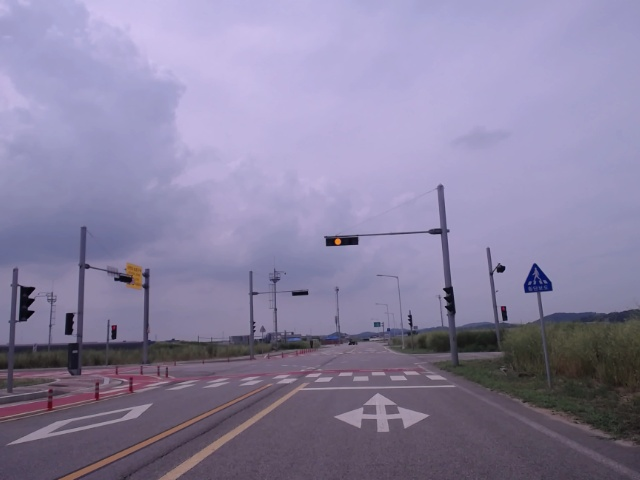orange_4: (324, 236, 361, 247)
